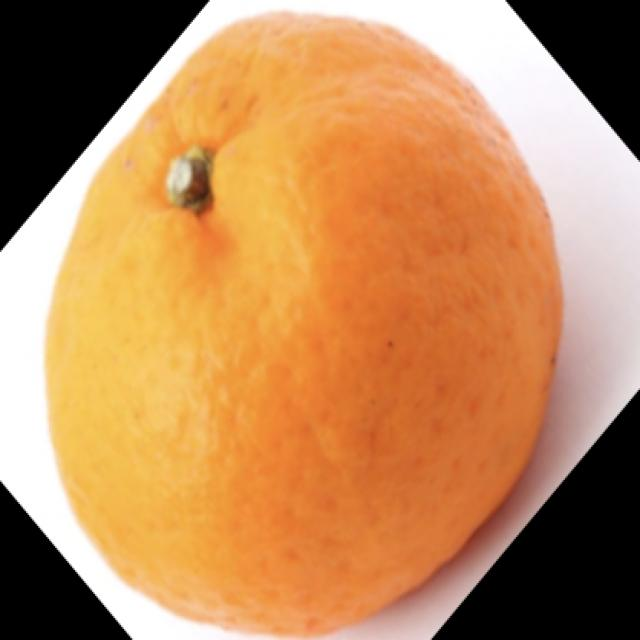fresh: (43, 11, 574, 640)
